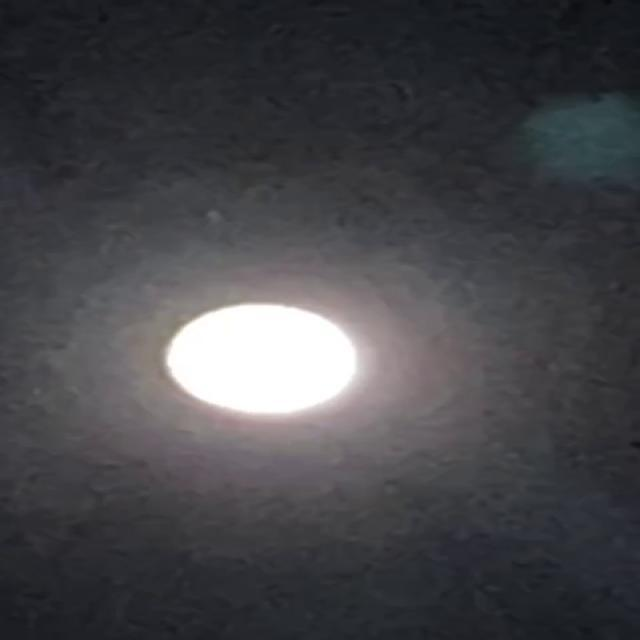moon: (148, 290, 372, 434)
